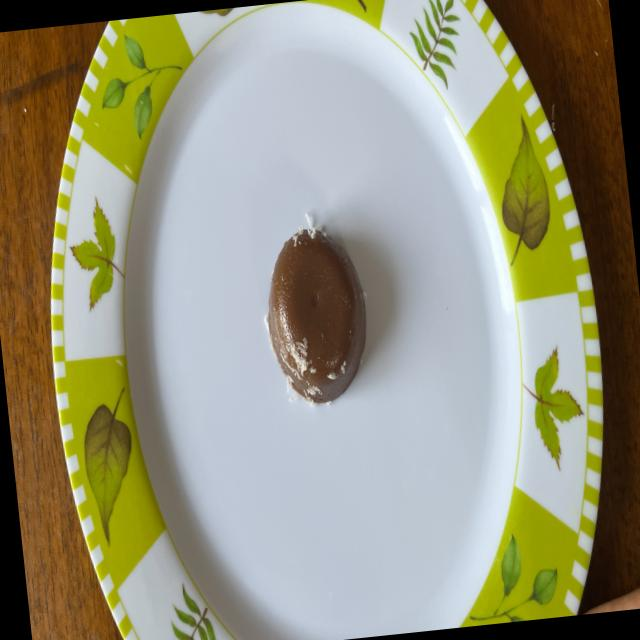Kuih lompang: (267, 226, 366, 403)
